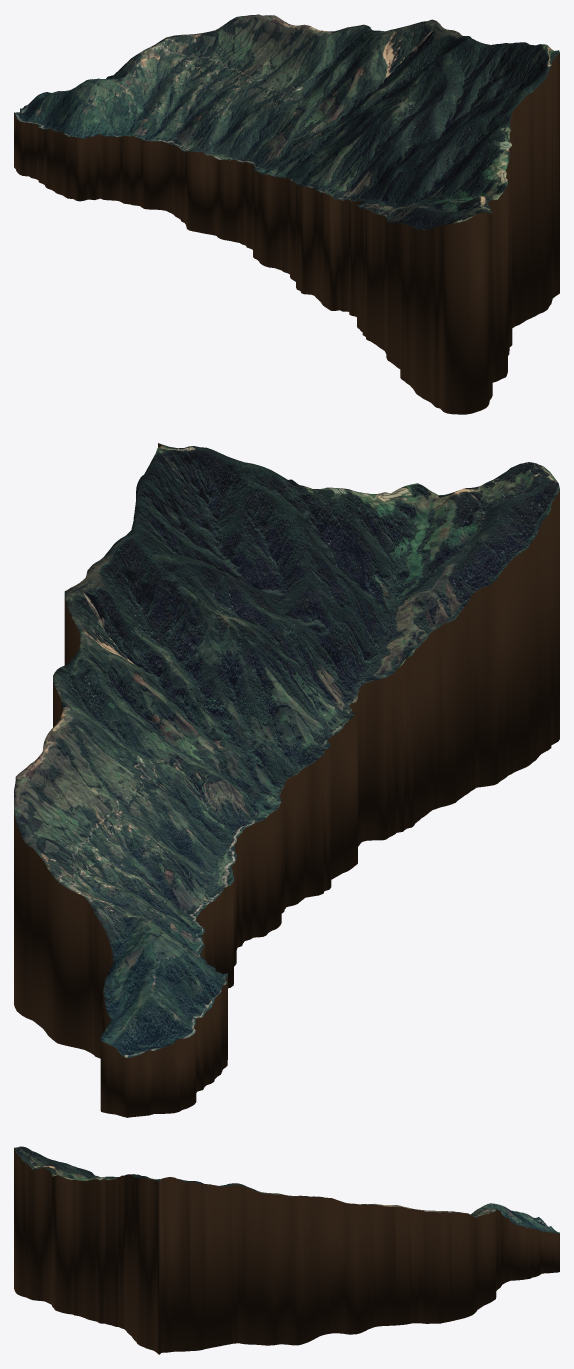
The model's file is LaSuiza.fbx.
3 renders of one model, top to bottom at view 1: azimuth 30°, elevation 25°; view 2: azimuth 150°, elevation 25°; view 3: azimuth 270°, elevation 25°, orthographic. The views are drawn at different scales.
Visible parts, largest first — view 1: La Suiza; view 2: La Suiza; view 3: La Suiza.
Boxes of the visible parts, x1,y1,x2,y2 form: La Suiza: (14,14,559,414); La Suiza: (14,443,559,1117); La Suiza: (14,1146,559,1354).
Bounding box in the file's own units: 363936 × 300363 × 847640.
Materials: 5 (4 with a texture image).
